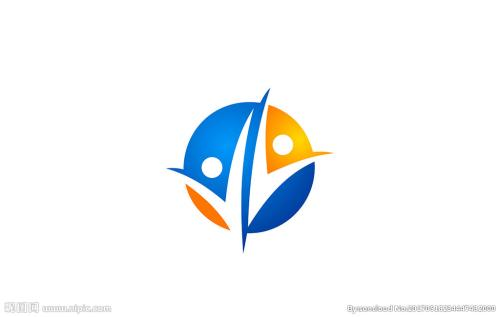ImgView: (1, 1, 499, 316)
